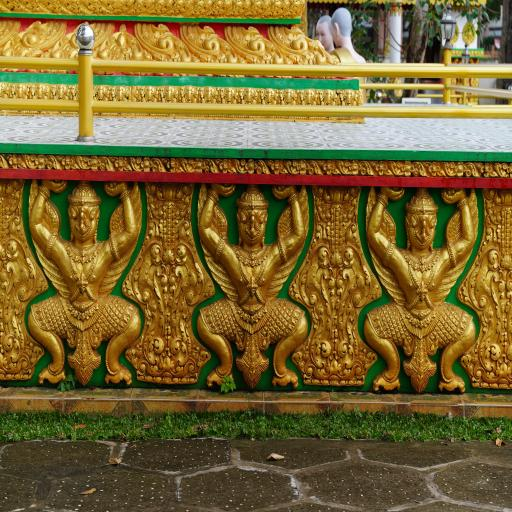than: (352, 178, 490, 405), (181, 177, 321, 399), (20, 158, 142, 402), (326, 10, 369, 84), (308, 10, 334, 58)
